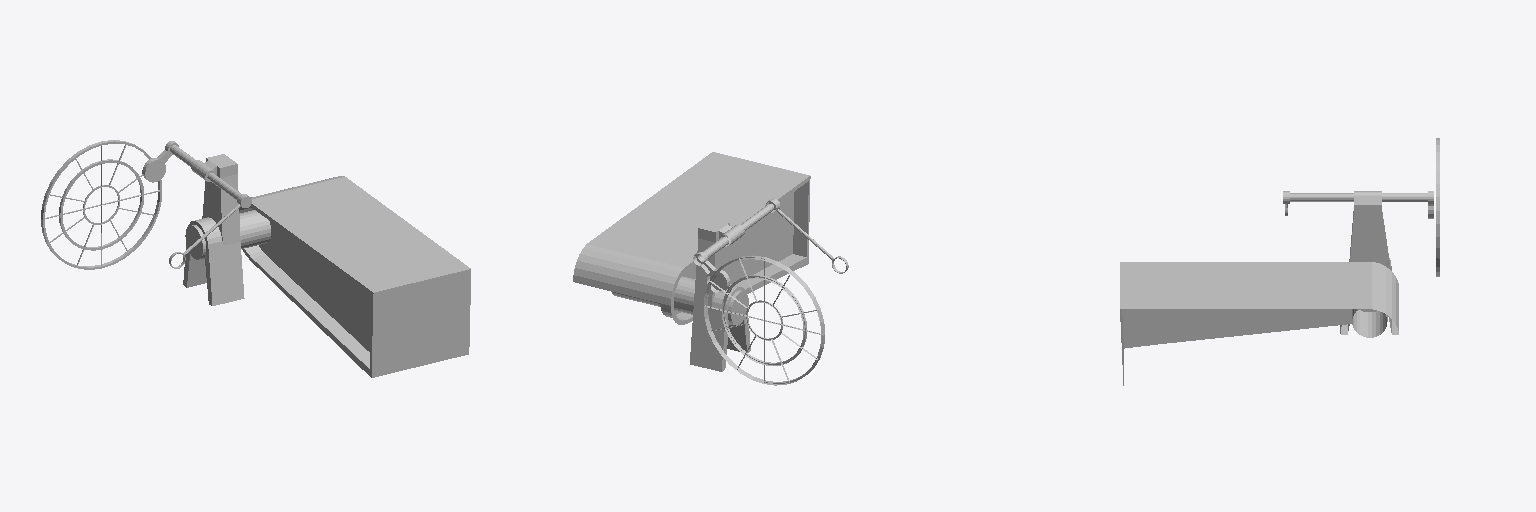
File: gun_invNorm.obj
3 renders of one model, left to right at view 1: azimuth 30°, elevation 25°; view 2: azimuth 150°, elevation 25°; view 3: azimuth 270°, elevation 25°, orthographic.
Parts seen in each view (by area): view 1: Circle.001; view 2: Circle.001; view 3: Circle.001.
Boxes of the visible parts, box(x1,y1,x2,y2) form: Circle.001: box(41, 140, 470, 377); Circle.001: box(573, 152, 848, 385); Circle.001: box(1120, 138, 1439, 385).
Size of the model in its own units: 0.5933 by 0.3113 by 0.608.